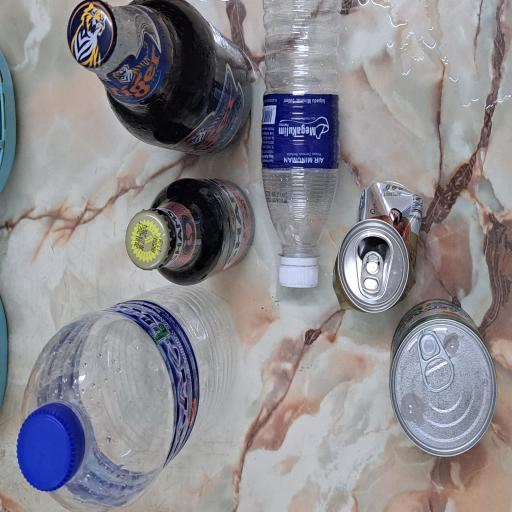can: (149, 450, 248, 512)
glass bottle: (267, 88, 384, 338), (169, 166, 251, 344)
plastic bottle: (0, 30, 170, 314), (189, 347, 384, 454)
plastic bottle cap: (16, 21, 82, 113), (167, 371, 186, 425)
pop tab: (163, 481, 196, 510)
